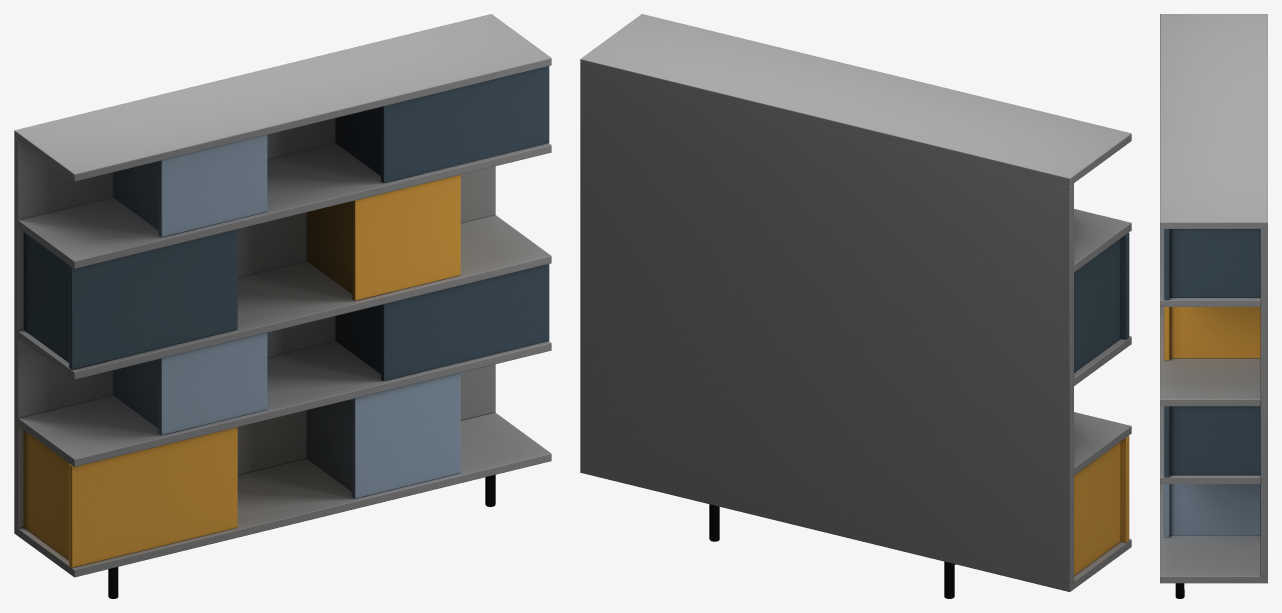
Rendered from Fowler.FBX.
The picture shows the model from 3 angles, left to right: view 1: azimuth 30°, elevation 25°; view 2: azimuth 150°, elevation 25°; view 3: azimuth 270°, elevation 25°; orthographic projection. The views are drawn at different scales.
Visible parts, largest first — view 1: Fowler; view 2: Fowler; view 3: Fowler.
Part boxes in pixels (<box>): Fowler: <box>14,14,551,598</box>; Fowler: <box>580,14,1131,598</box>; Fowler: <box>1160,14,1267,598</box>.
Bounding box in the file's own units: 62.99 × 55.88 × 13.78.
Materials: 1 (1 with a texture image).
